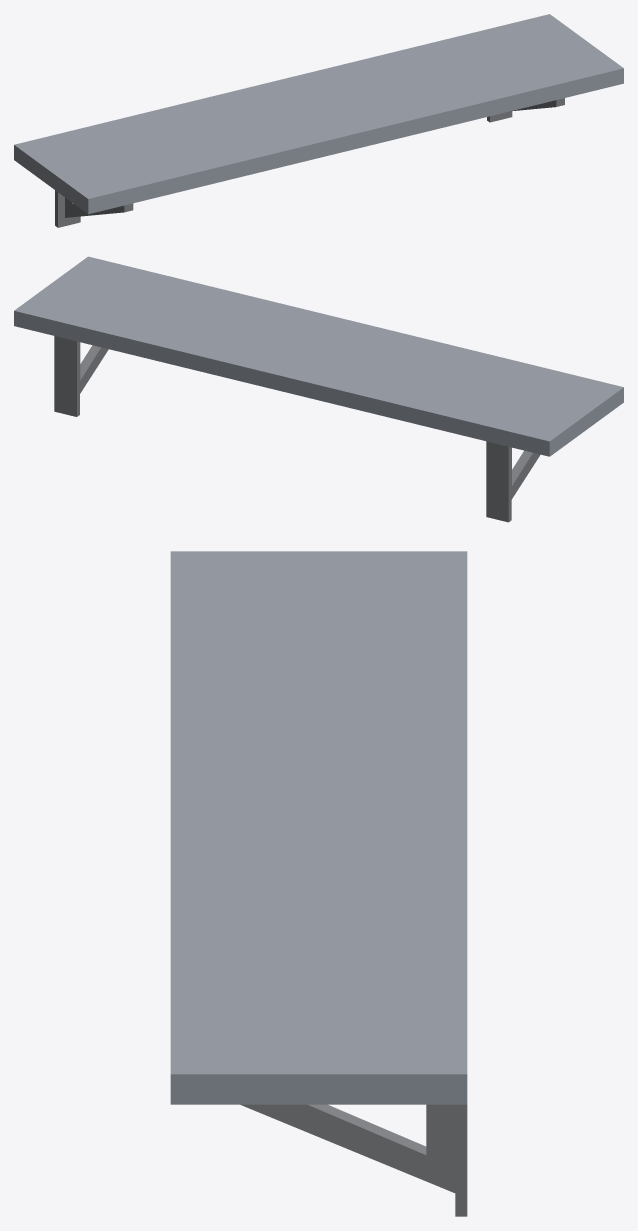
Rendered from SM_Prop_Shop_Wall_Shelf_01.obj.
3 renders of one model, top to bottom at view 1: azimuth 30°, elevation 25°; view 2: azimuth 150°, elevation 25°; view 3: azimuth 270°, elevation 25°, orthographic. The views are drawn at different scales.
Visible parts, largest first — view 1: SM_Prop_Shop_Wall_Shelf_01_0; view 2: SM_Prop_Shop_Wall_Shelf_01_0; view 3: SM_Prop_Shop_Wall_Shelf_01_0.
Boxes of the visible parts, left/top/right/bottom form: SM_Prop_Shop_Wall_Shelf_01_0: left=14, top=14, right=623, bottom=227; SM_Prop_Shop_Wall_Shelf_01_0: left=14, top=256, right=623, bottom=522; SM_Prop_Shop_Wall_Shelf_01_0: left=170, top=551, right=467, bottom=1216.
Size of the model in its own units: 2.5 by 0.4058 by 0.5995.
Materials: 1 (1 with a texture image).
